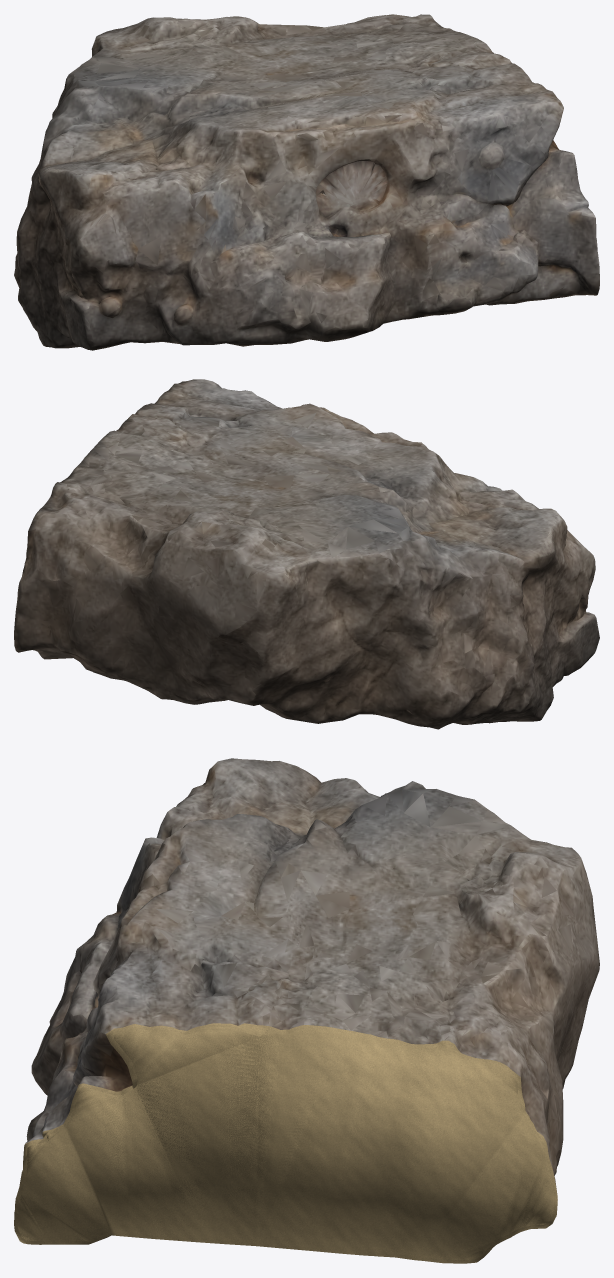
Rendered from shellstone-v0-worked-lod0.gltf.
3 renders of one model, top to bottom at view 1: azimuth 30°, elevation 25°; view 2: azimuth 150°, elevation 25°; view 3: azimuth 270°, elevation 25°, orthographic. The views are drawn at different scales.
Parts seen in each view (by area): view 1: shellstone-v0-worked-lod0; view 2: shellstone-v0-worked-lod0; view 3: shellstone-v0-worked-lod0.
Boxes of the visible parts, bbox=[...] form: shellstone-v0-worked-lod0: bbox=[14, 14, 599, 350]; shellstone-v0-worked-lod0: bbox=[14, 379, 599, 729]; shellstone-v0-worked-lod0: bbox=[14, 758, 599, 1263].
Bounding box in the file's own units: 1.2 × 0.5328 × 1.05.
Materials: 2 (2 with a texture image).
